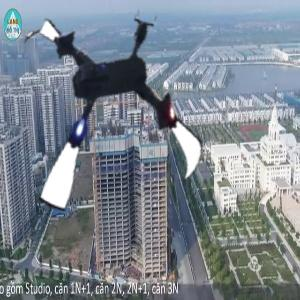drone: (3, 3, 226, 226)
